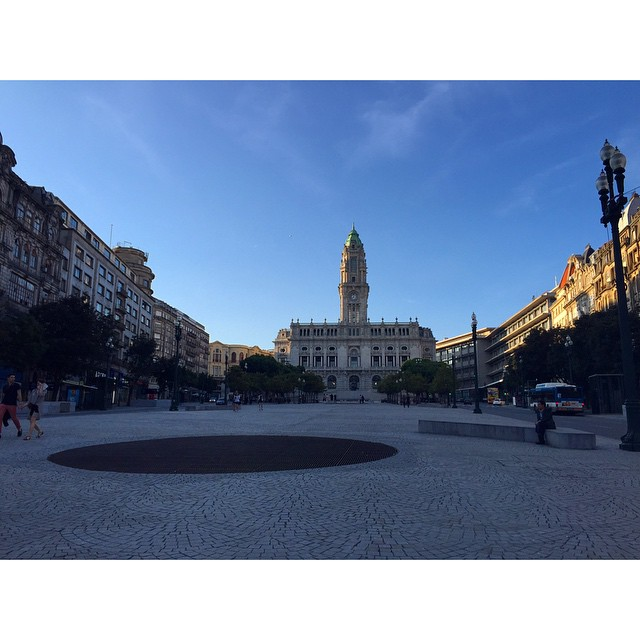camara: (270, 220, 440, 393)
